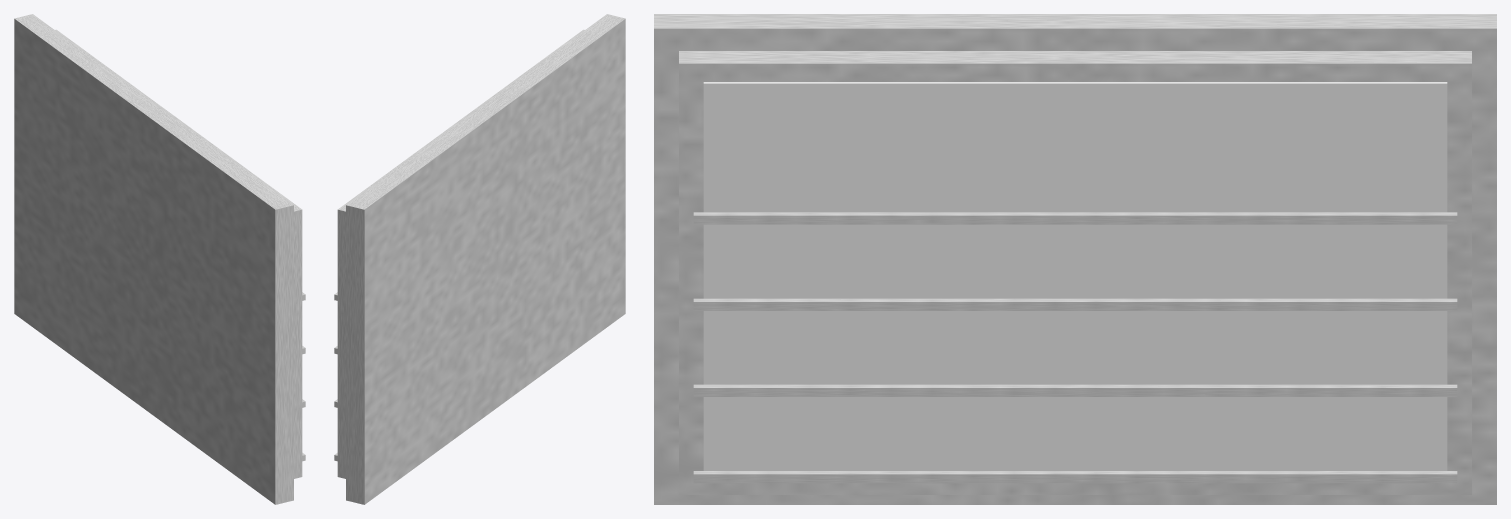
The model's file is stonewallwashlight.obj.
The picture shows the model from 3 angles, left to right: view 1: azimuth 30°, elevation 25°; view 2: azimuth 150°, elevation 25°; view 3: azimuth 270°, elevation 25°; orthographic projection. The views are drawn at different scales.
Visible parts, largest first — view 1: Base, Metal; view 2: Base, Metal; view 3: Light0, Base, Metal, Trim.
Boxes of the visible parts, x1,y1,x2,y2 form: Base: [14, 14, 293, 504]; Metal: [55, 29, 302, 478]; Base: [346, 14, 625, 504]; Metal: [337, 29, 584, 478]; Light0: [703, 82, 1447, 470]; Base: [654, 14, 1496, 504]; Metal: [679, 51, 1471, 494]; Trim: [693, 212, 1457, 483].
Bounding box in the file's own units: 0.08 × 0.53 × 0.85.
